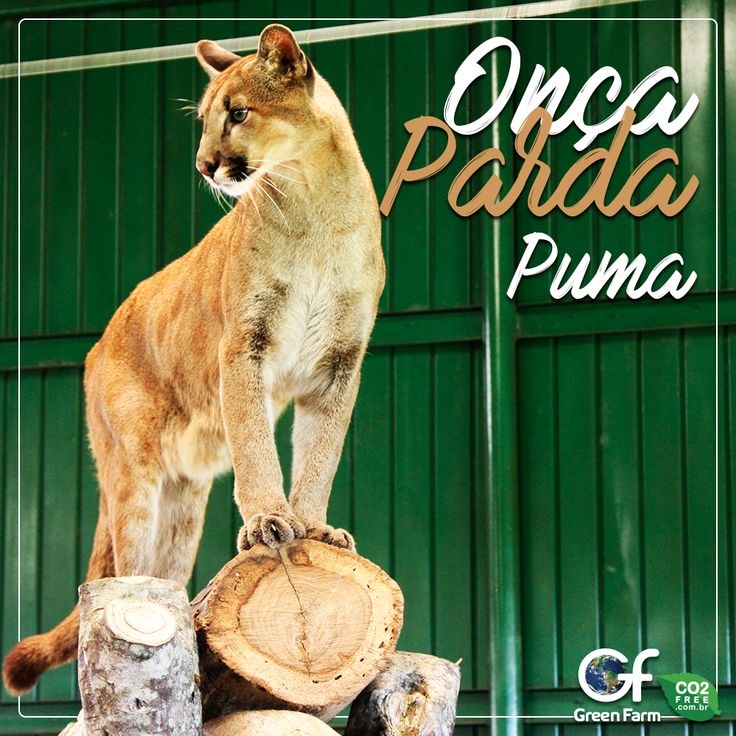OncaParda: (28, 26, 388, 623)
